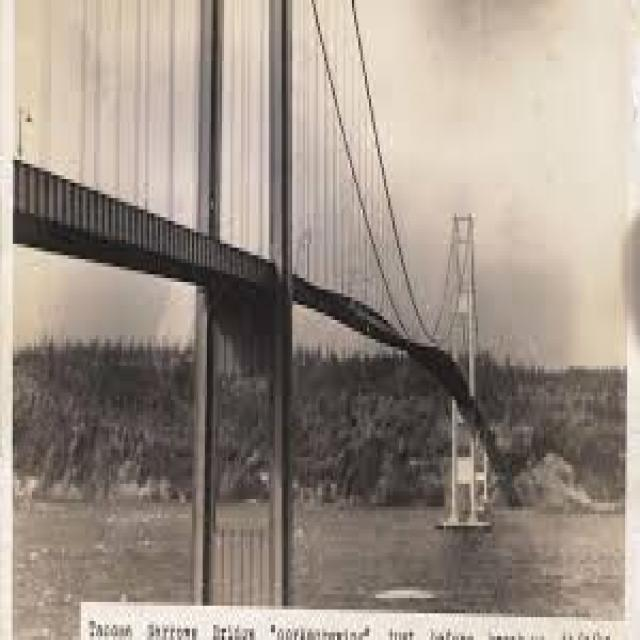bridge collapse: (363, 207, 525, 532)
